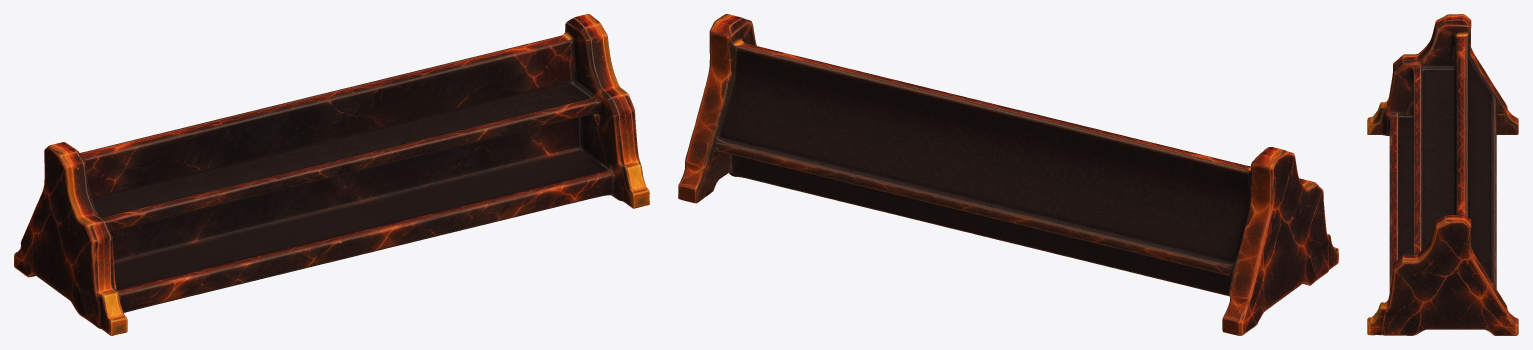
File: rack_molten_obsidian.glb
3 renders of one model, left to right at view 1: azimuth 30°, elevation 25°; view 2: azimuth 150°, elevation 25°; view 3: azimuth 270°, elevation 25°, orthographic. The views are drawn at different scales.
Size of the model in its own units: 1.9 by 0.4874 by 0.5815.
Materials: 1 (1 with a texture image).
